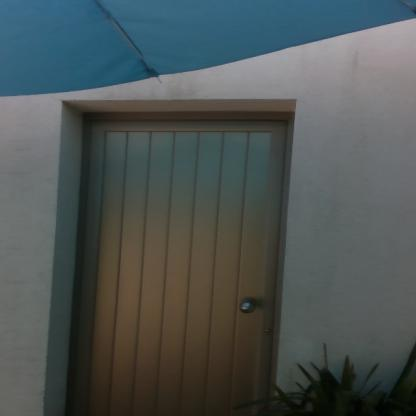door: (84, 121, 276, 416)
knob: (238, 298, 257, 316)
